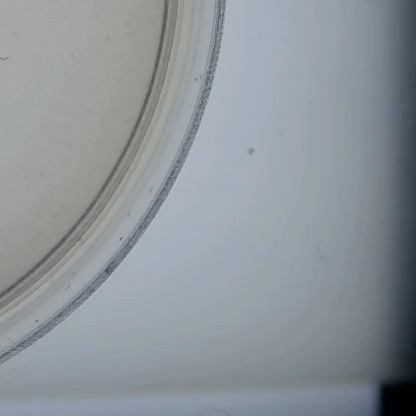worm: (0, 53, 24, 70)
